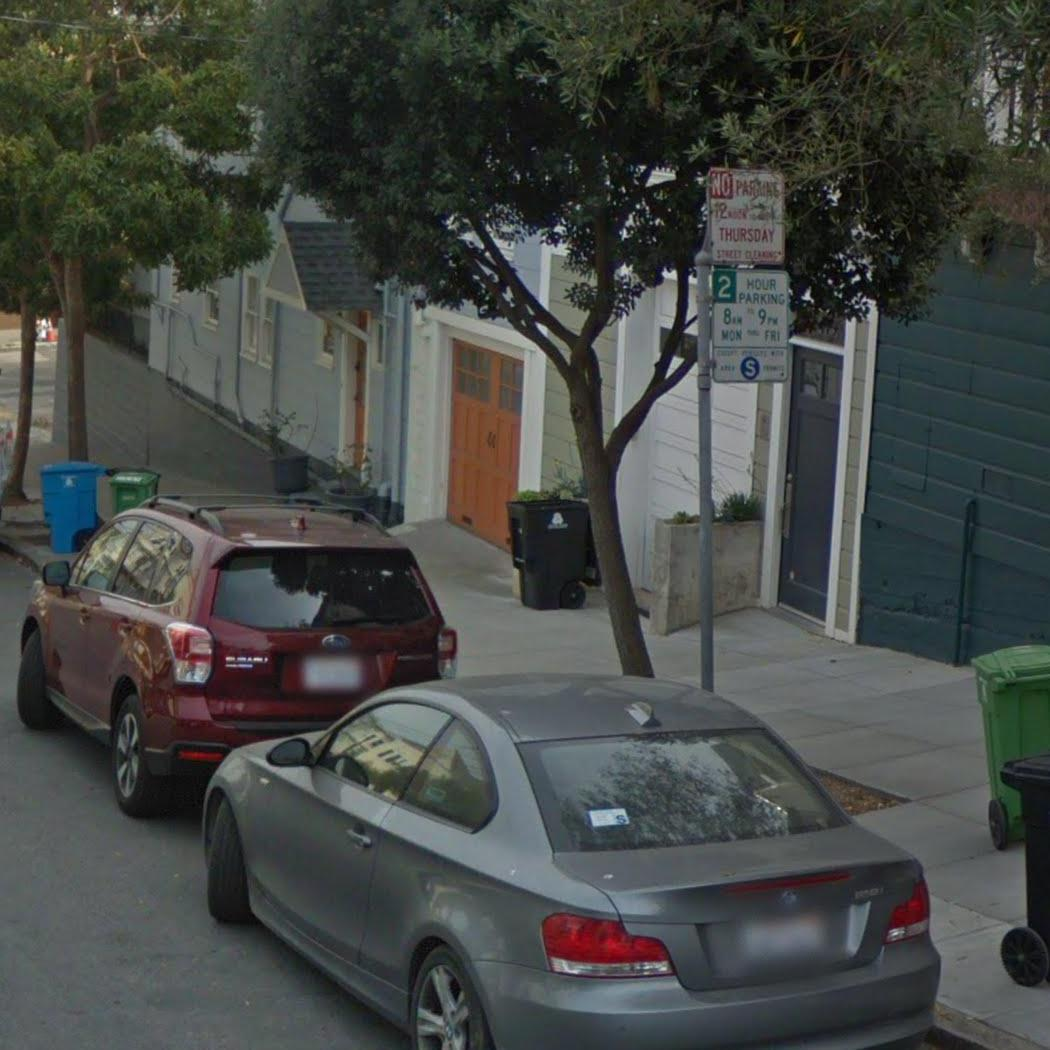2 Hour Parking: (700, 260, 800, 389)
No Parking: (702, 162, 792, 270)
